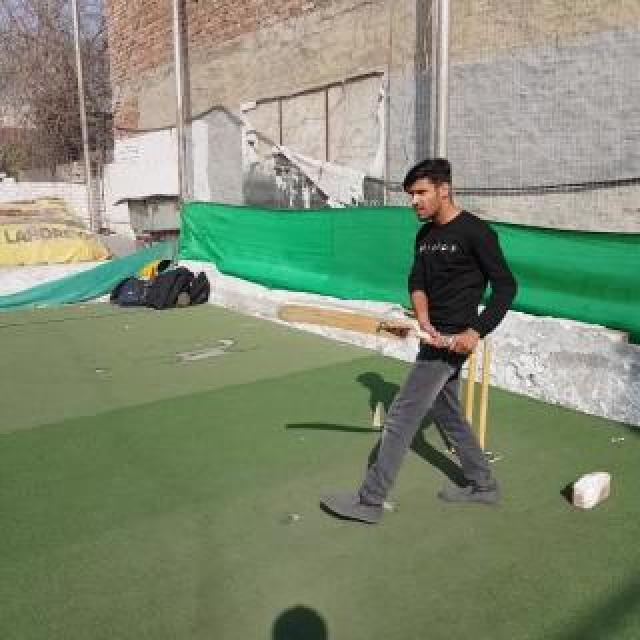bat: (276, 298, 478, 354)
